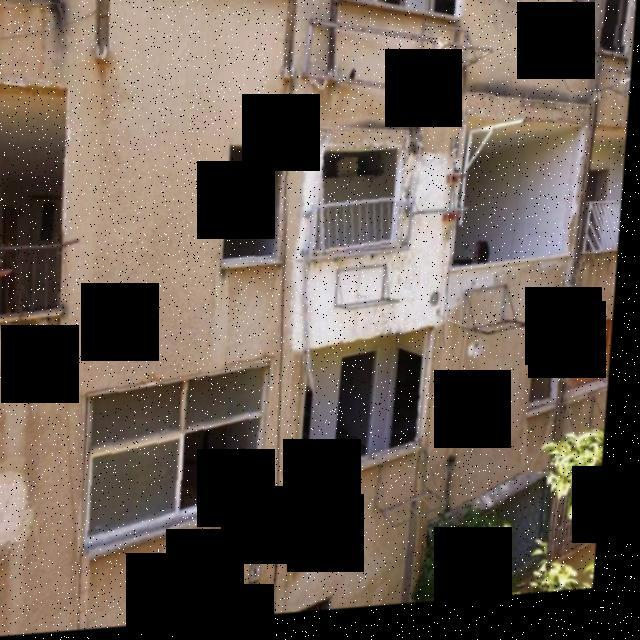Window: (92, 363, 278, 554), (438, 482, 560, 610), (314, 156, 400, 262), (227, 146, 296, 270), (567, 0, 639, 64), (538, 339, 568, 415), (40, 202, 63, 252), (346, 0, 408, 13)
